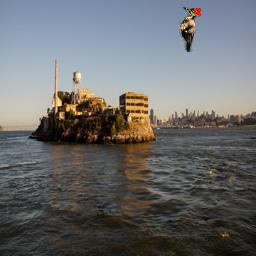Woodpecker: (178, 7, 201, 52)
